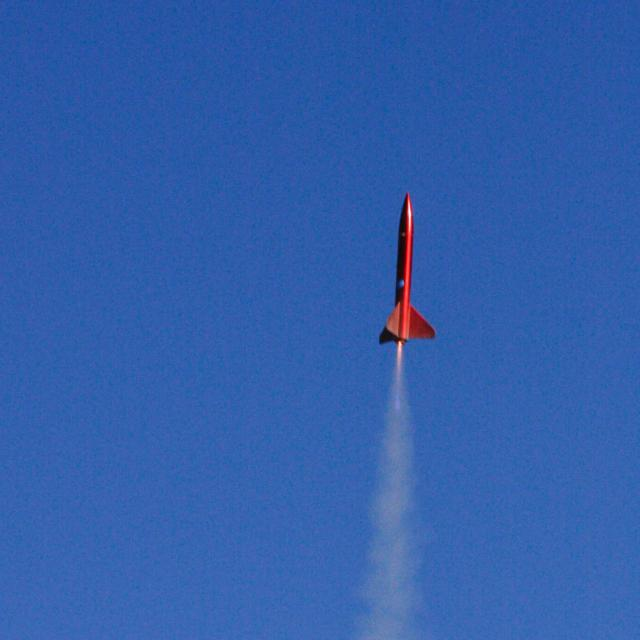Rocket: (377, 191, 437, 346)
